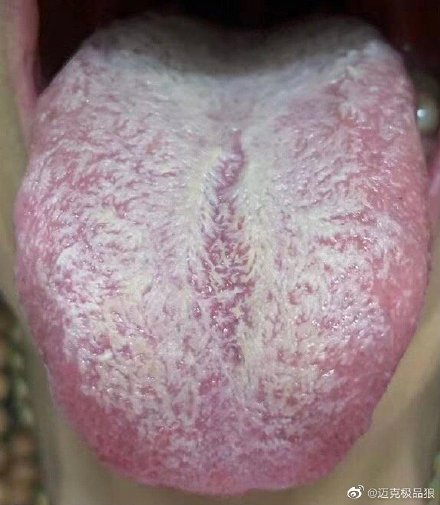baitaishe: (16, 14, 429, 497)
shenquao: (150, 15, 344, 50)
